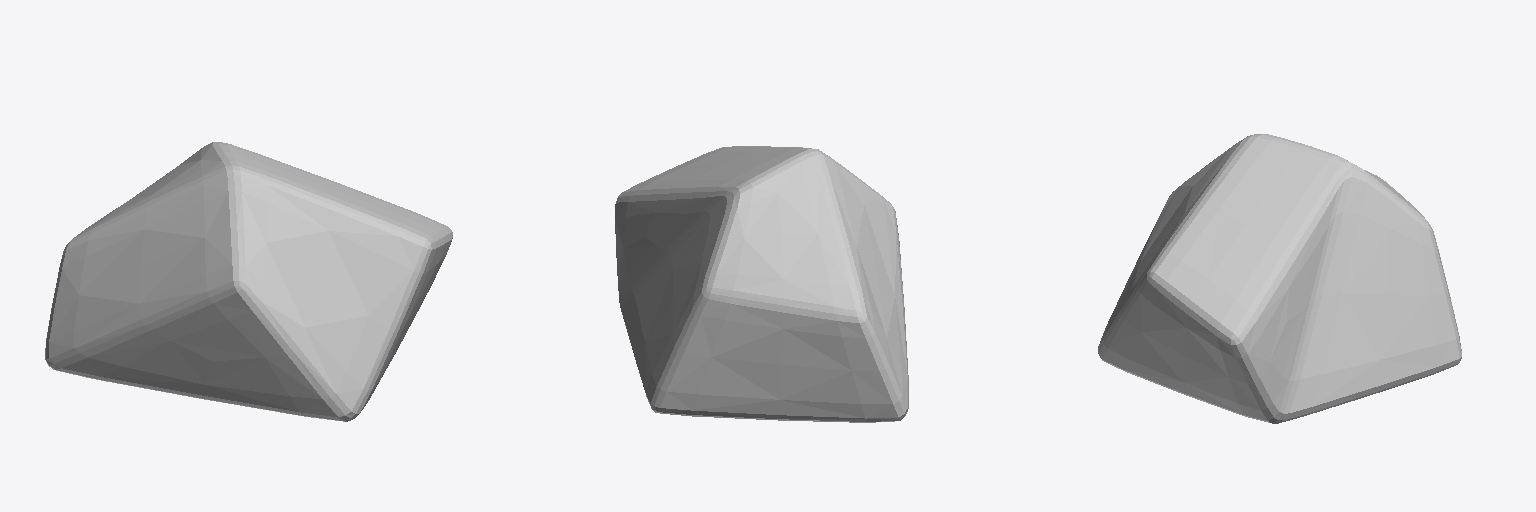
Rendered from rock-tree2-01.obj.
3 views of the same model, side by side, from view 1: azimuth 30°, elevation 25°; view 2: azimuth 150°, elevation 25°; view 3: azimuth 270°, elevation 25° (orthographic).
Visible parts, largest first — view 1: rock_tree2_01 Rocks; view 2: rock_tree2_01 Rocks; view 3: rock_tree2_01 Rocks.
Part boxes in pixels (x1,y1,x2,y2): rock_tree2_01 Rocks: (45, 142, 452, 421); rock_tree2_01 Rocks: (615, 146, 908, 422); rock_tree2_01 Rocks: (1098, 134, 1461, 423).
Bounding box in the file's own units: 1.25 × 0.7206 × 1.13.